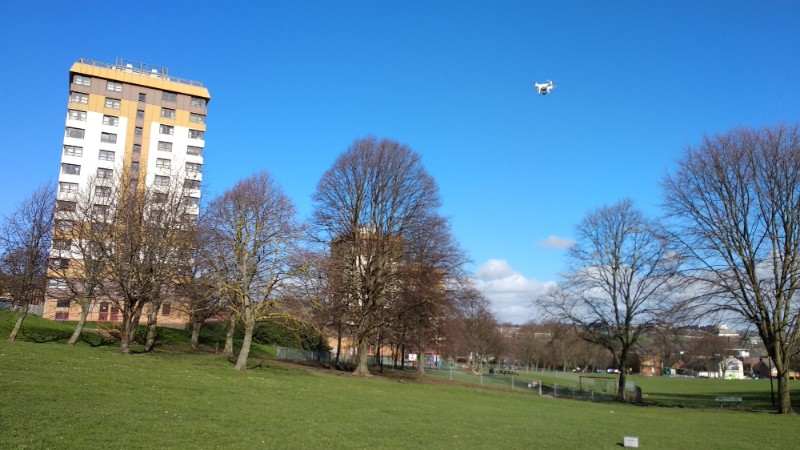drone: (533, 79, 556, 96)
